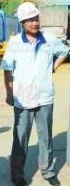boots: (11, 173, 27, 186), (0, 164, 11, 179)
hard-hat: (0, 0, 35, 28)
